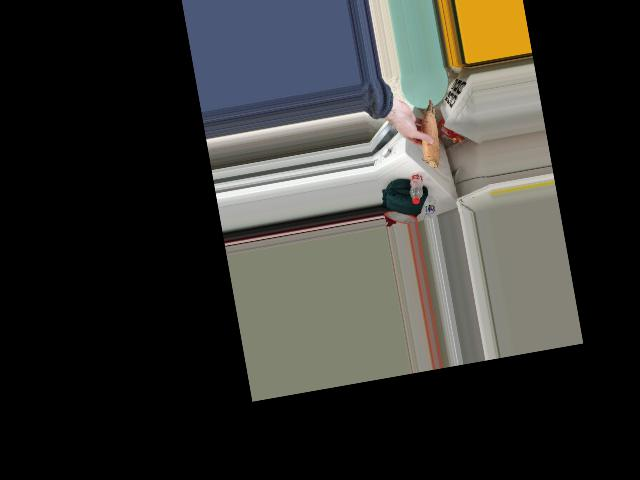sweet_potato: (414, 100, 443, 165)
